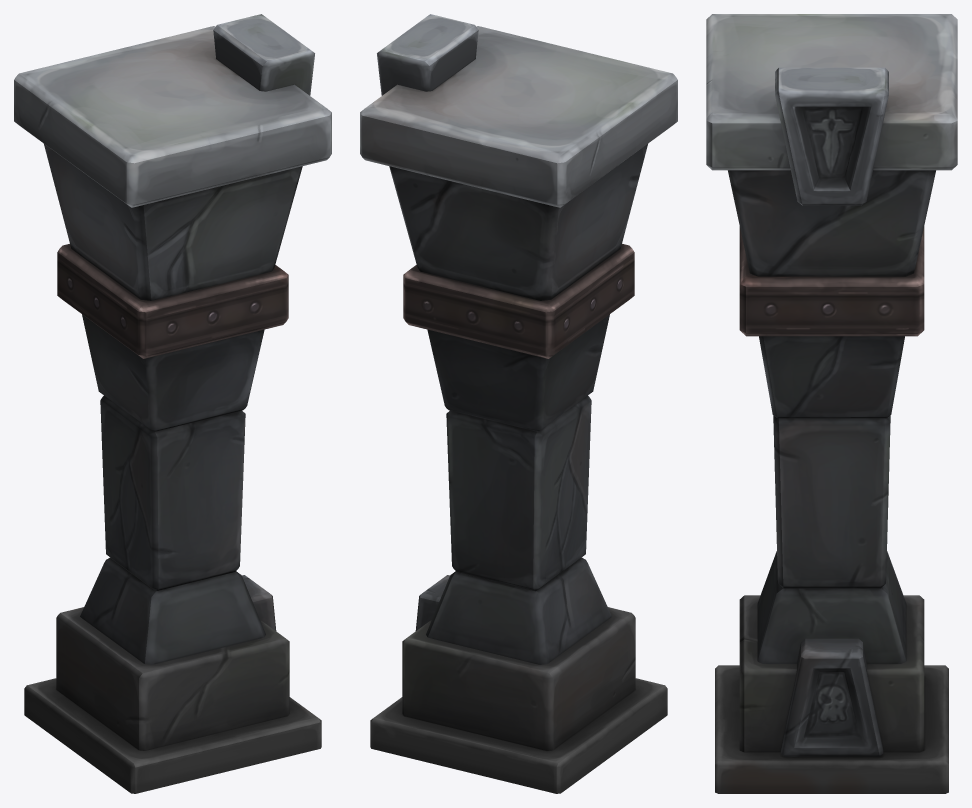
File: stonePillar.fbx
3 renders of one model, left to right at view 1: azimuth 30°, elevation 25°; view 2: azimuth 150°, elevation 25°; view 3: azimuth 270°, elevation 25°, orthographic. The views are drawn at different scales.
Parts seen in each view (by area): view 1: Top_Flat, Middle_Long, Top_Square, Bottom_Square, Middle_Flat, Bottom_Flat, Bottom_Pyramid, Middle_Square, Ornament_Top, Ornament_Bottom; view 2: Top_Flat, Middle_Long, Top_Square, Bottom_Square, Middle_Flat, Bottom_Flat, Bottom_Pyramid, Middle_Square, Ornament_Top, Ornament_Bottom; view 3: Top_Flat, Middle_Long, Top_Square, Bottom_Flat, Ornament_Top, Middle_Flat, Bottom_Square, Middle_Square, Bottom_Pyramid, Ornament_Bottom.
Boxes of the visible parts, x1,y1,x2,y2 form: Top_Flat: (14,26,331,207); Middle_Long: (100,395,245,590); Top_Square: (44,144,302,300); Bottom_Square: (56,607,289,750); Middle_Flat: (57,243,288,358); Bottom_Flat: (24,678,321,793); Bottom_Pyramid: (80,557,265,664); Middle_Square: (82,314,264,431); Ornament_Top: (213,14,314,95); Ornament_Bottom: (242,575,276,630); Top_Flat: (360,26,677,207); Middle_Long: (446,395,591,590); Top_Square: (389,144,647,300); Bottom_Square: (402,607,635,750); Middle_Flat: (403,243,634,358); Bottom_Flat: (370,678,667,793); Bottom_Pyramid: (426,557,611,664); Middle_Square: (427,314,609,431); Ornament_Top: (377,14,478,95); Ornament_Bottom: (415,575,449,630); Top_Flat: (706,14,957,170); Middle_Long: (773,415,890,588); Top_Square: (728,170,935,276); Bottom_Flat: (715,665,948,793); Ornament_Top: (775,67,888,205); Middle_Flat: (739,226,924,336); Bottom_Square: (739,595,924,752); Middle_Square: (759,336,904,418); Bottom_Pyramid: (757,551,906,663); Ornament_Bottom: (780,638,883,756).
Size of the model in its own units: 175 by 509 by 163.
